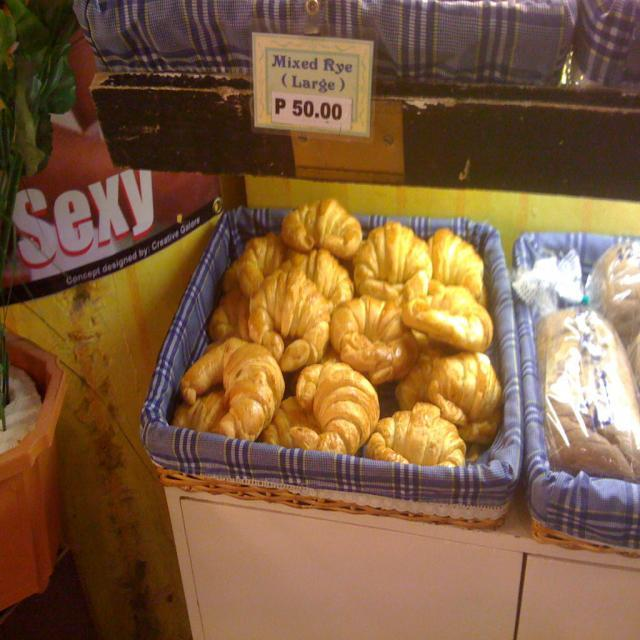Croissant: (171, 199, 503, 468), (190, 338, 282, 444)
